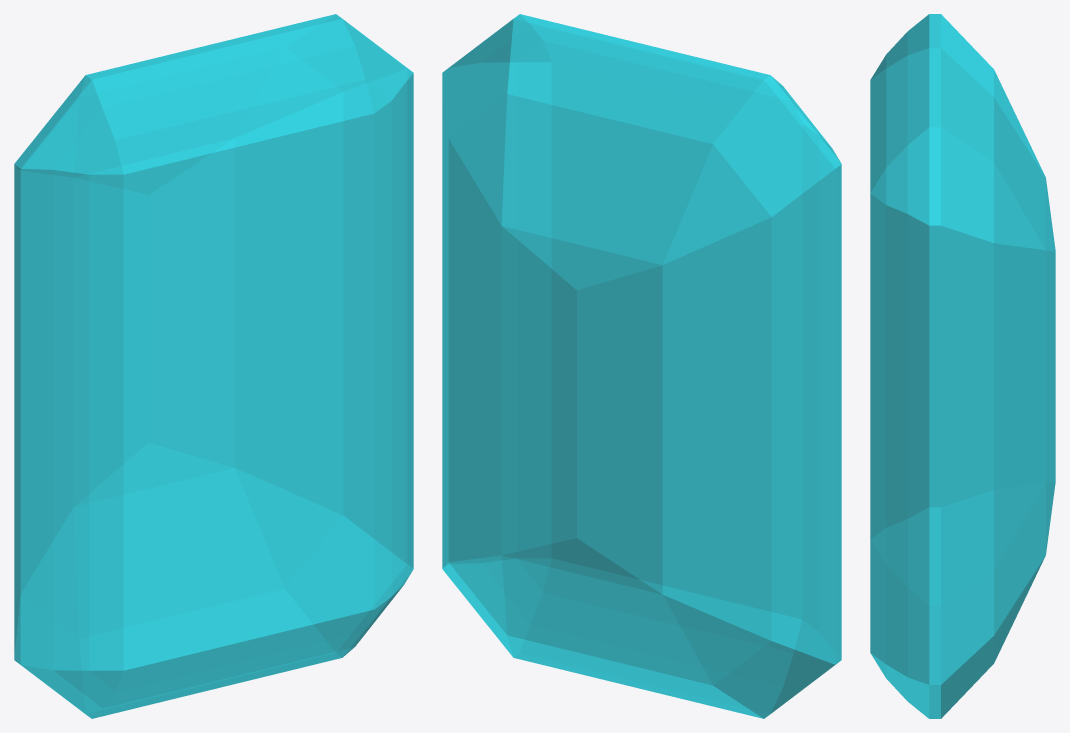
Rendered from emerald aquamarine.glb.
The picture shows the model from 3 angles, left to right: view 1: azimuth 30°, elevation 25°; view 2: azimuth 150°, elevation 25°; view 3: azimuth 270°, elevation 25°; orthographic projection. The views are drawn at different scales.
Visible parts, largest first — view 1: Emerald; view 2: Emerald; view 3: Emerald.
Boxes of the visible parts, <box> form: Emerald: <box>14,14,413,718</box>; Emerald: <box>442,14,841,718</box>; Emerald: <box>870,14,1055,718</box>.
Size of the model in its own units: 1.29 by 2 by 0.568.
